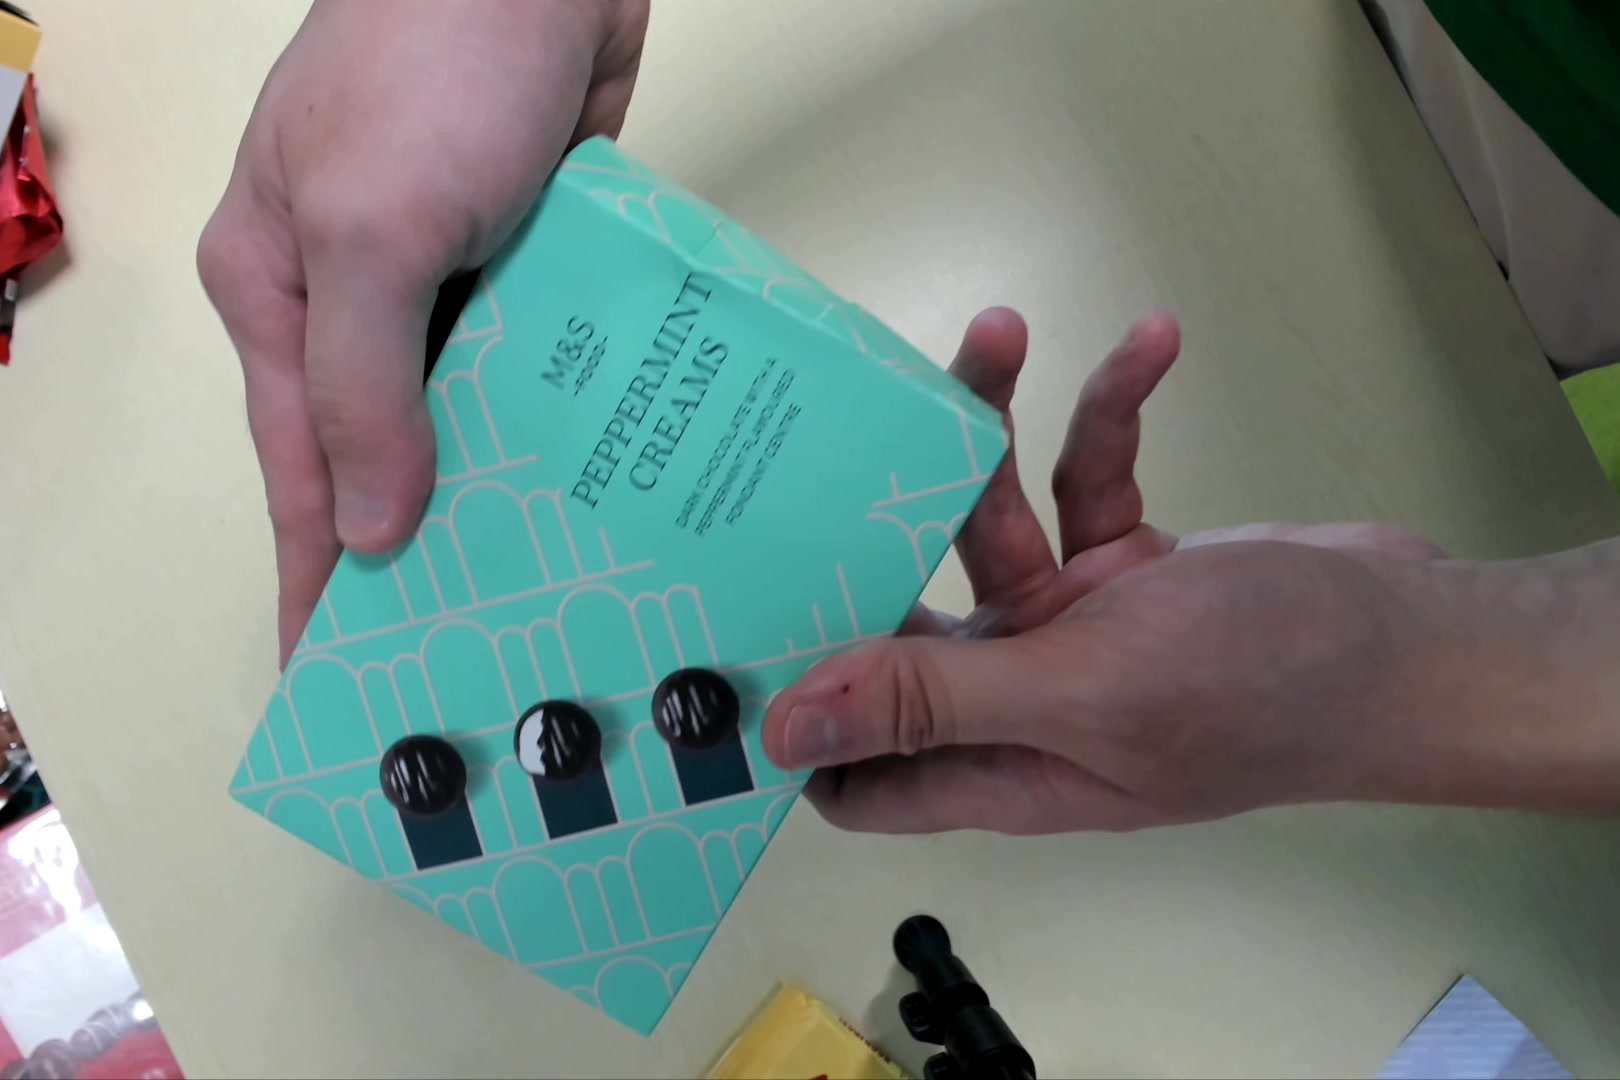SweetsChocolatesOthers_100-199g_NonHalal_NonHealthy: (231, 155, 1010, 1049)
